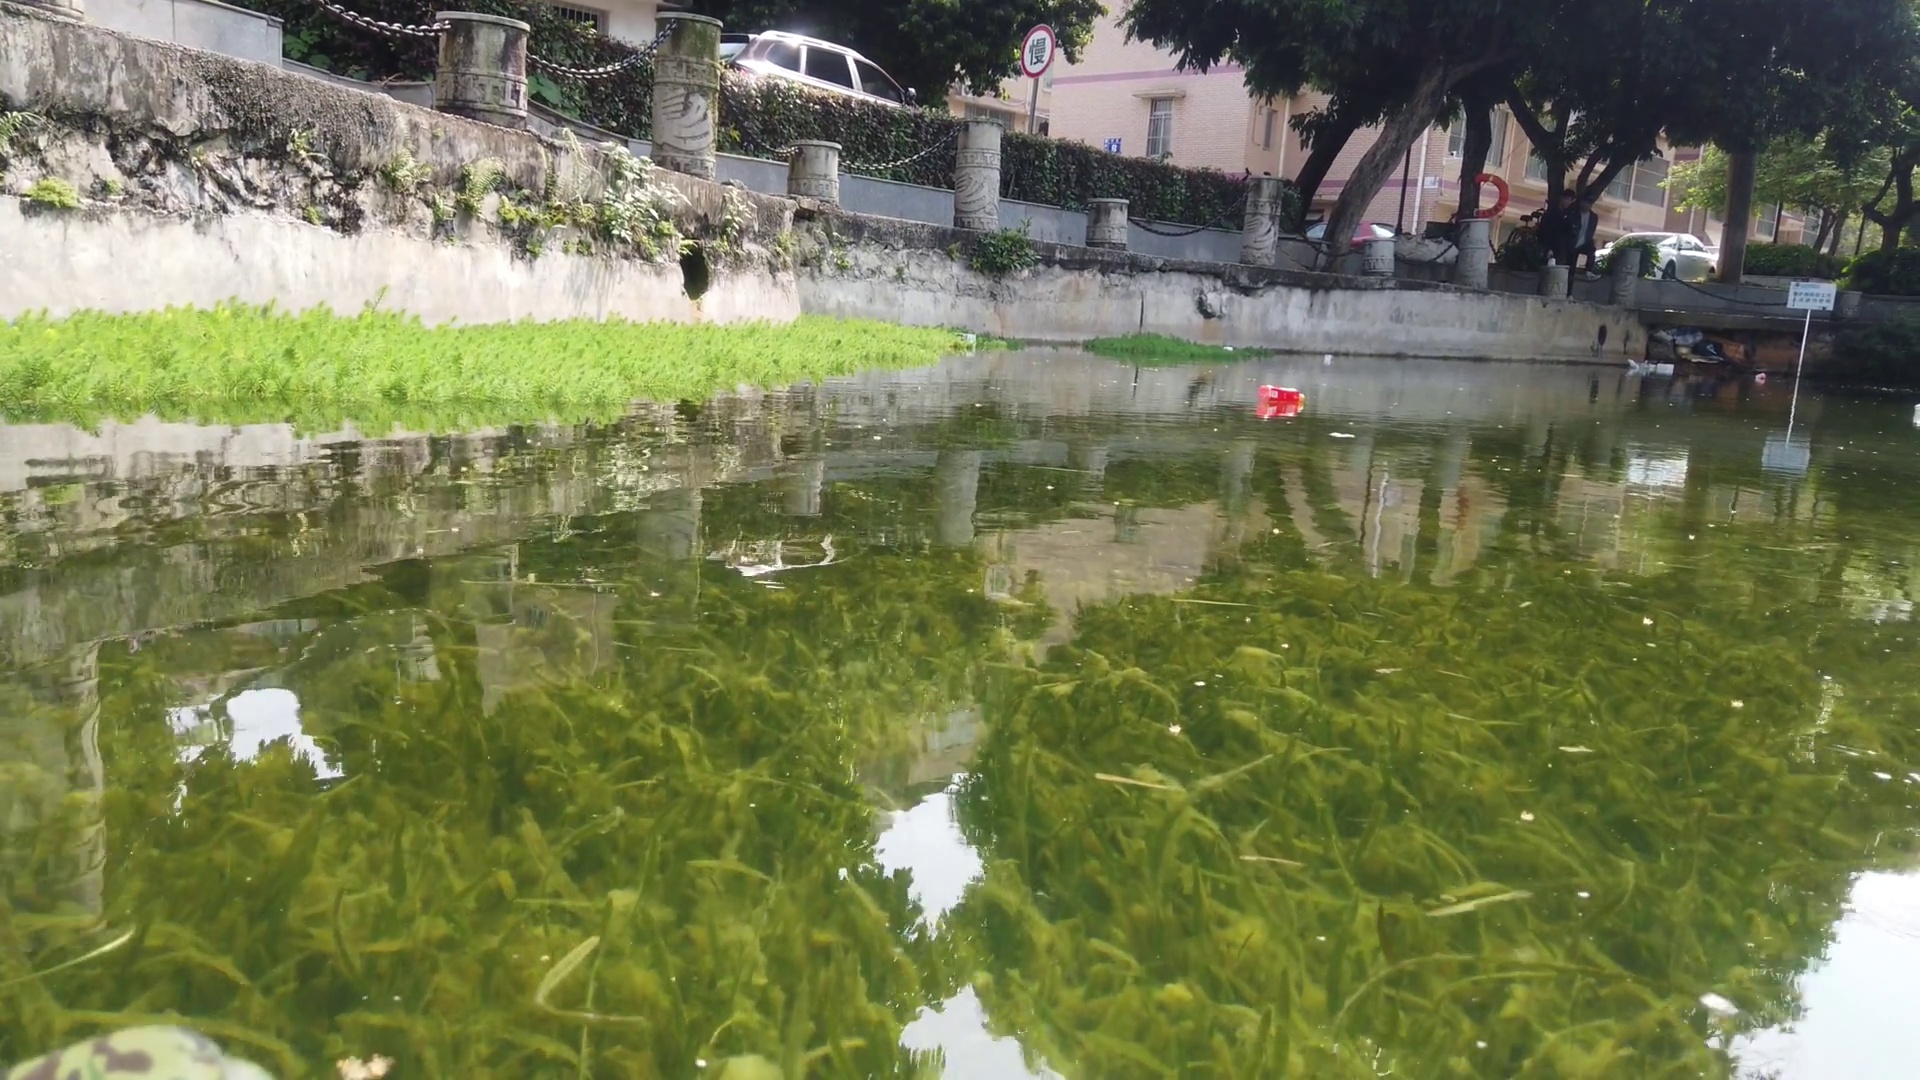bottle: (1253, 382, 1308, 404), (1909, 400, 1920, 415), (1753, 371, 1764, 378)
carton: (957, 332, 978, 347), (1654, 361, 1673, 373), (1323, 352, 1333, 363)
plastic: (1626, 357, 1651, 371)
